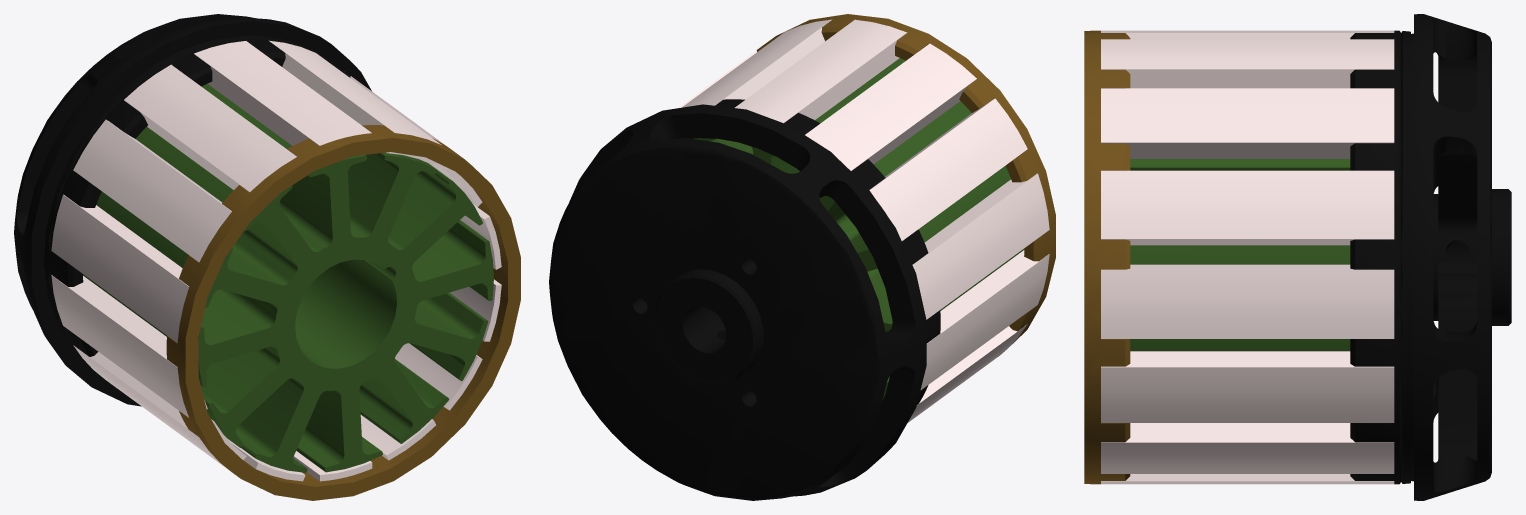
File: stator.glb
The picture shows the model from 3 angles, left to right: view 1: azimuth 30°, elevation 25°; view 2: azimuth 150°, elevation 25°; view 3: azimuth 270°, elevation 25°; orthographic projection. The views are drawn at different scales.
Parts seen in each view (by area): view 1: 41-¦--¦¦+¦; view 2: 41-¦--¦¦+¦; view 3: 41-¦--¦¦+¦.
Part boxes in pixels (x1,y1,x2,y2): 41-¦--¦¦+¦: (14, 14, 520, 500); 41-¦--¦¦+¦: (549, 14, 1055, 500); 41-¦--¦¦+¦: (1084, 14, 1511, 500).
Bounding box in the file's own units: 0.0498 × 0.0498 × 0.0437.
